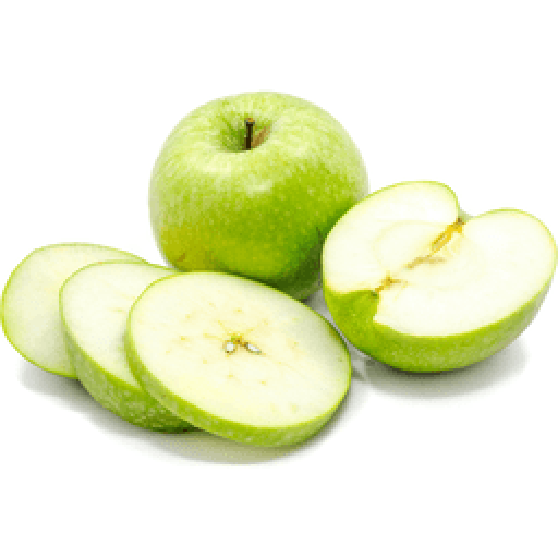apple: (134, 88, 381, 317)
